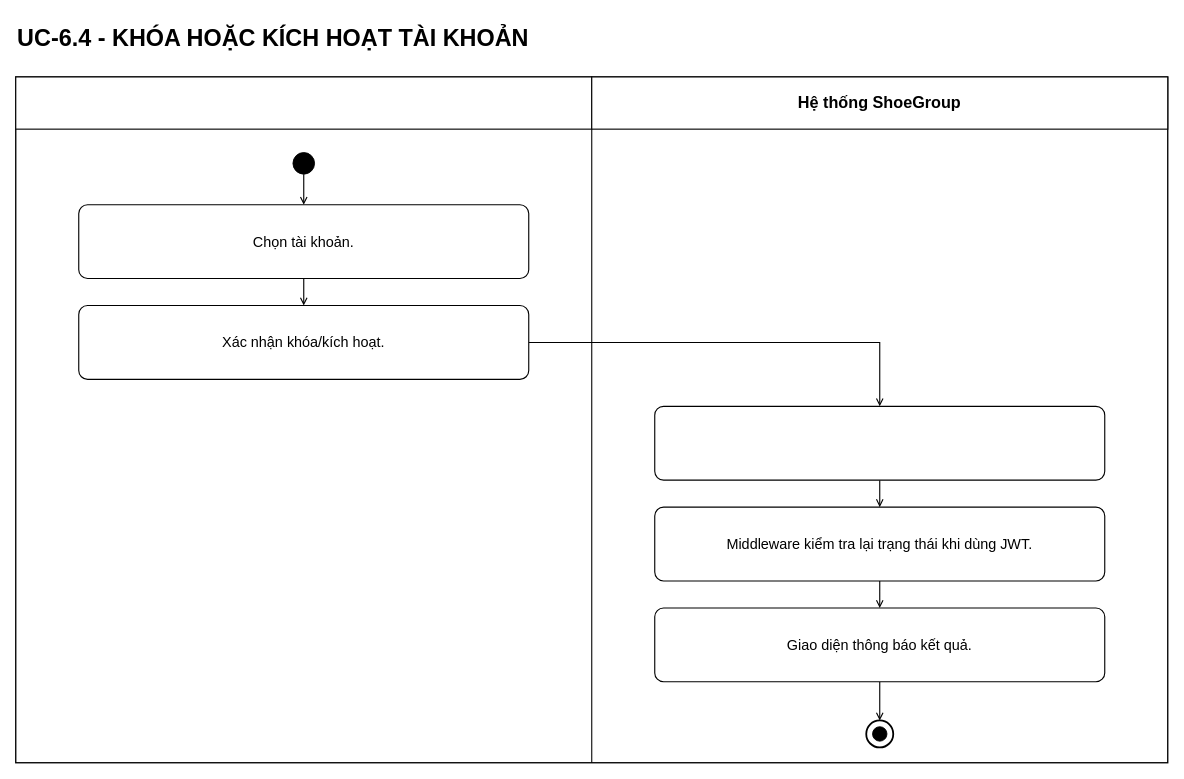
The diagram is 1184 pixels wide and 779 high, and some of its shapes have lost their labels. The centre of each missing label's shape, as x and y in pixels:
"Backend cập nhật IsActive." belongs at [879,442].
"Quản trị viên" belongs at [303,102].
